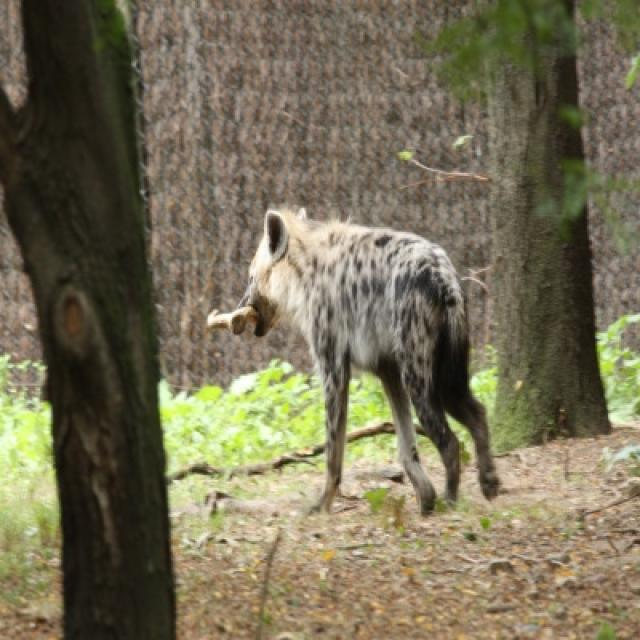hyena: (208, 210, 502, 517)
